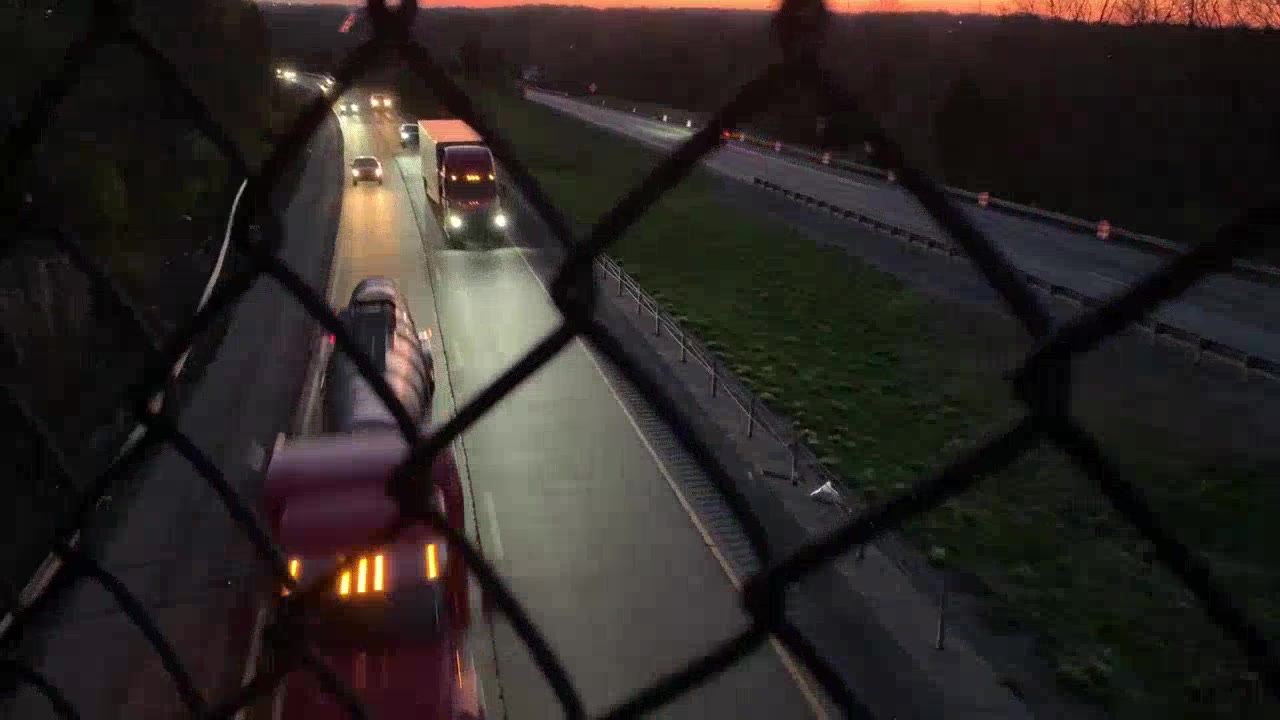heavyTruck: (247, 275, 479, 717), (412, 121, 517, 253)
smallCar: (344, 151, 389, 190), (369, 89, 395, 113), (336, 100, 362, 116)
